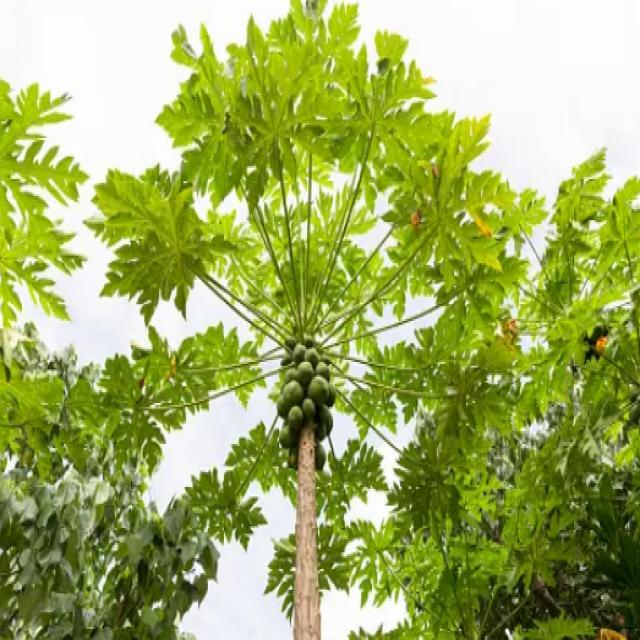Papaya-Tree: (128, 24, 488, 640)
